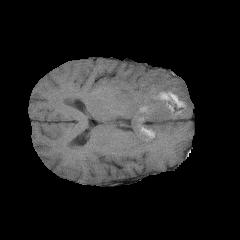glioma: (111, 70, 189, 143)
